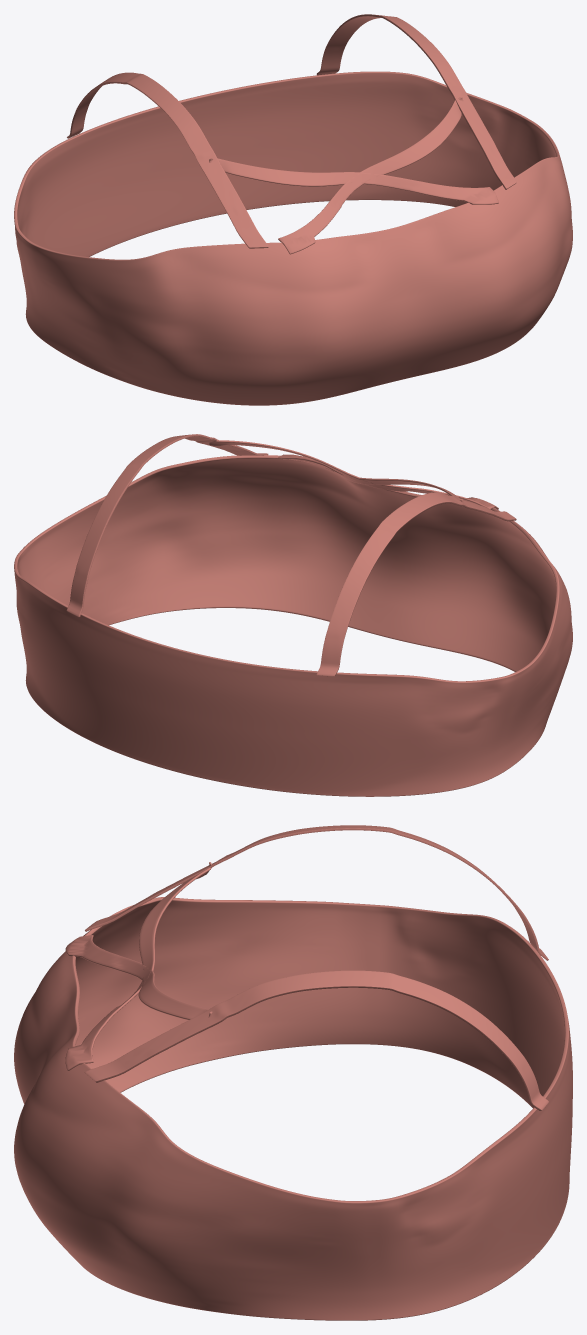
Rendered from Feminine-strappy-top.glb.
3 renders of one model, top to bottom at view 1: azimuth 30°, elevation 25°; view 2: azimuth 150°, elevation 25°; view 3: azimuth 270°, elevation 25°, orthographic. The views are drawn at different scales.
Visible parts, largest first — view 1: Clothing / strappy body, Clothing / Crop sewn strap201 -1, Clothing / Crop sewn strap201 1, Crop / sewn crossed strap201 -1, Crop / sewn crossed strap201 1; view 2: Clothing / strappy body, Clothing / Crop sewn strap201 -1, Clothing / Crop sewn strap201 1, Crop / sewn crossed strap201 1, Crop / sewn crossed strap201 -1; view 3: Clothing / strappy body, Clothing / Crop sewn strap201 1, Crop / sewn crossed strap201 1, Clothing / Crop sewn strap201 -1, Crop / sewn crossed strap201 -1.
Boxes of the visible parts, x1=… form: Clothing / strappy body: x1=14, y1=71, x2=572, y2=405; Clothing / Crop sewn strap201 -1: x1=67, y1=72, x2=268, y2=248; Clothing / Crop sewn strap201 1: x1=316, y1=14, x2=516, y2=189; Crop / sewn crossed strap201 -1: x1=209, y1=158, x2=498, y2=204; Crop / sewn crossed strap201 1: x1=278, y1=97, x2=463, y2=254; Clothing / strappy body: x1=14, y1=455, x2=572, y2=796; Clothing / Crop sewn strap201 -1: x1=316, y1=492, x2=516, y2=676; Clothing / Crop sewn strap201 1: x1=66, y1=434, x2=268, y2=616; Crop / sewn crossed strap201 1: x1=209, y1=440, x2=498, y2=509; Crop / sewn crossed strap201 -1: x1=278, y1=454, x2=463, y2=506; Clothing / strappy body: x1=14, y1=897, x2=572, y2=1320; Clothing / Crop sewn strap201 1: x1=84, y1=970, x2=548, y2=1110; Crop / sewn crossed strap201 1: x1=65, y1=935, x2=212, y2=1019; Clothing / Crop sewn strap201 -1: x1=85, y1=825, x2=548, y2=960; Crop / sewn crossed strap201 -1: x1=65, y1=862, x2=211, y2=1070.
Size of the model in its own units: 0.6201 by 0.2873 by 0.4888.
